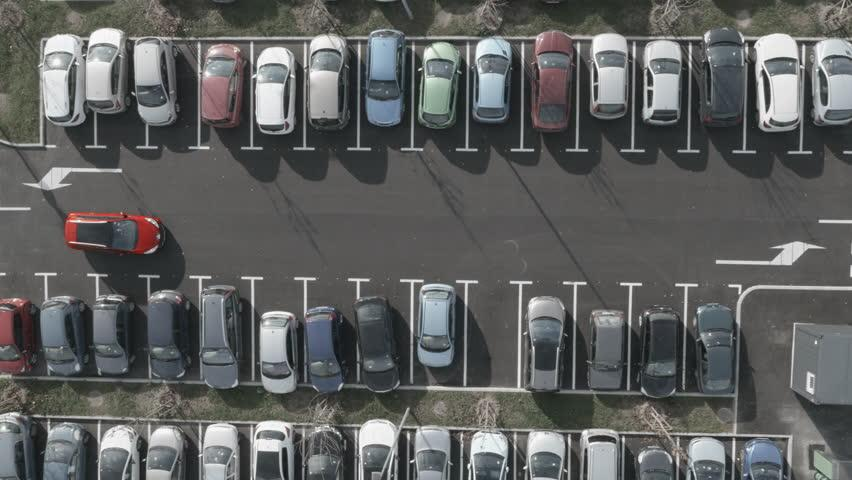car: (747, 27, 810, 136), (192, 285, 255, 390), (519, 291, 577, 403), (348, 296, 413, 395), (300, 27, 364, 125), (61, 207, 168, 264), (408, 279, 465, 384), (526, 33, 583, 138), (695, 26, 754, 126), (126, 31, 192, 118), (250, 40, 310, 134), (143, 283, 200, 381), (40, 34, 101, 125), (359, 21, 415, 120), (687, 299, 744, 394), (252, 301, 310, 394), (415, 40, 474, 131), (83, 284, 146, 368), (638, 34, 690, 132), (298, 296, 351, 389), (37, 294, 93, 381), (194, 35, 251, 120), (472, 36, 526, 124), (627, 307, 685, 388), (85, 28, 138, 112), (589, 29, 639, 116), (806, 33, 850, 128), (584, 305, 629, 386)
empty space: (464, 281, 525, 388)
